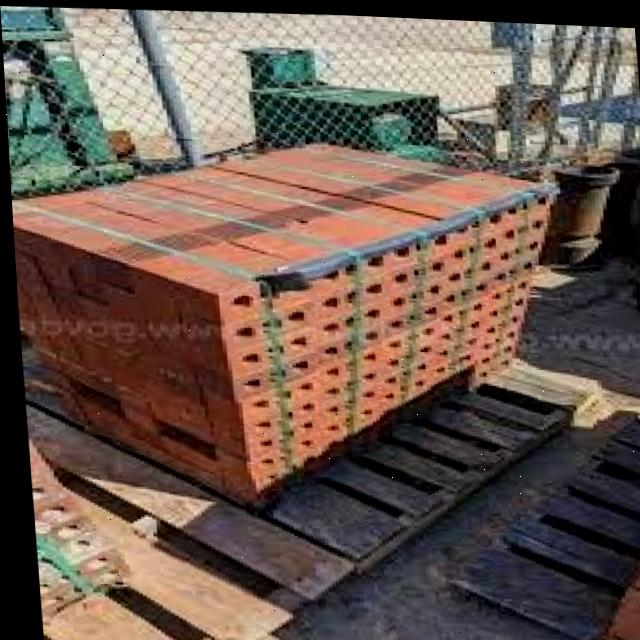bricks: (13, 144, 560, 503)
